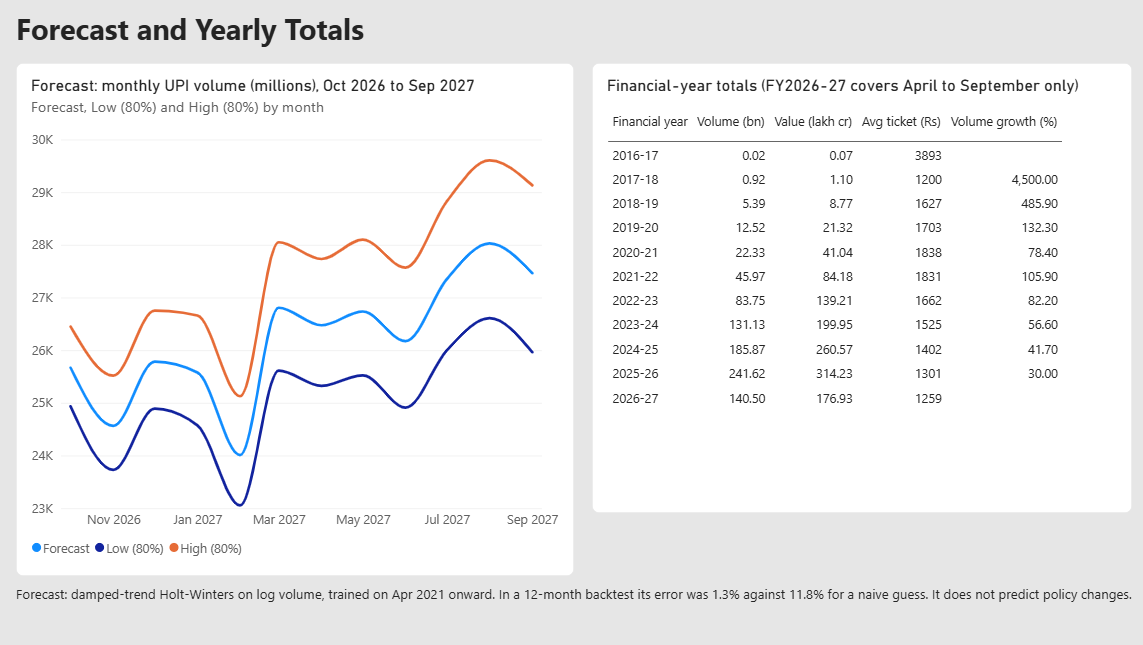

The page's visual inventory and layout, read from the dashboard file:
{"tool":"powerbi","page":{"name":"Page 2","canvas":[1280,720],"ordinal":1},"visuals":[{"type":"lineChart","title":"Forecast: monthly UPI volume (millions), Oct 2026 to Sep 2027","fields":{"Category":["forecast.month"],"Y":["Sum(forecast.forecast_volume_mn)","Sum(forecast.low_80)","Sum(forecast.high_80)"]},"box":[20,70,620,570],"z":0},{"type":"tableEx","title":"Financial-year totals (FY2026-27 is Apr to Sep only, so ignore its growth %)","fields":{"Values":["03_yearly.fin_year","Sum(03_yearly.volume_bn)","Sum(03_yearly.value_lakh_cr)","Sum(03_yearly.avg_ticket_rs)","Sum(03_yearly.volume_growth_pct)"]},"box":[660,70,600,500],"z":1},{"type":"textbox","box":[20,10,1240,50],"z":2},{"type":"textbox","box":[20,650,1240,50],"z":3}]}

Visuals, with their boxes in screenshot pixels (x1, y1, x2, y2), scaled from the page's 1280x720 canvas onto the 1143x645 screenshot:
"Forecast: monthly UPI volume (millions), Oct 2026 to Sep 2027" lineChart: left=18, top=63, right=572, bottom=573
"Financial-year totals (FY2026-27 is Apr to Sep only, so ignore its growth %)" tableEx: left=589, top=63, right=1125, bottom=511
textbox: left=18, top=9, right=1125, bottom=54
textbox: left=18, top=582, right=1125, bottom=627
